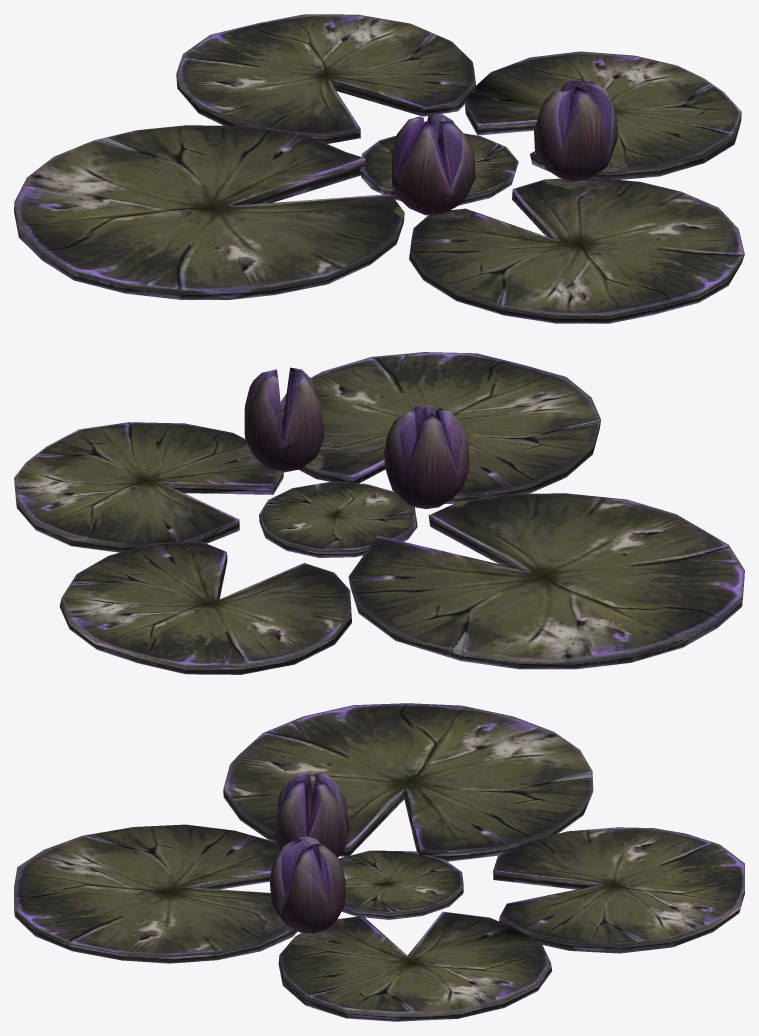
File: nature-black-bog-lilies.glb
3 views of the same model, one above another, from view 1: azimuth 30°, elevation 25°; view 2: azimuth 150°, elevation 25°; view 3: azimuth 270°, elevation 25° (orthographic). The views are drawn at different scales.
Size of the model in its own units: 1 by 0.14 by 1.
1 material, 1 textured.
